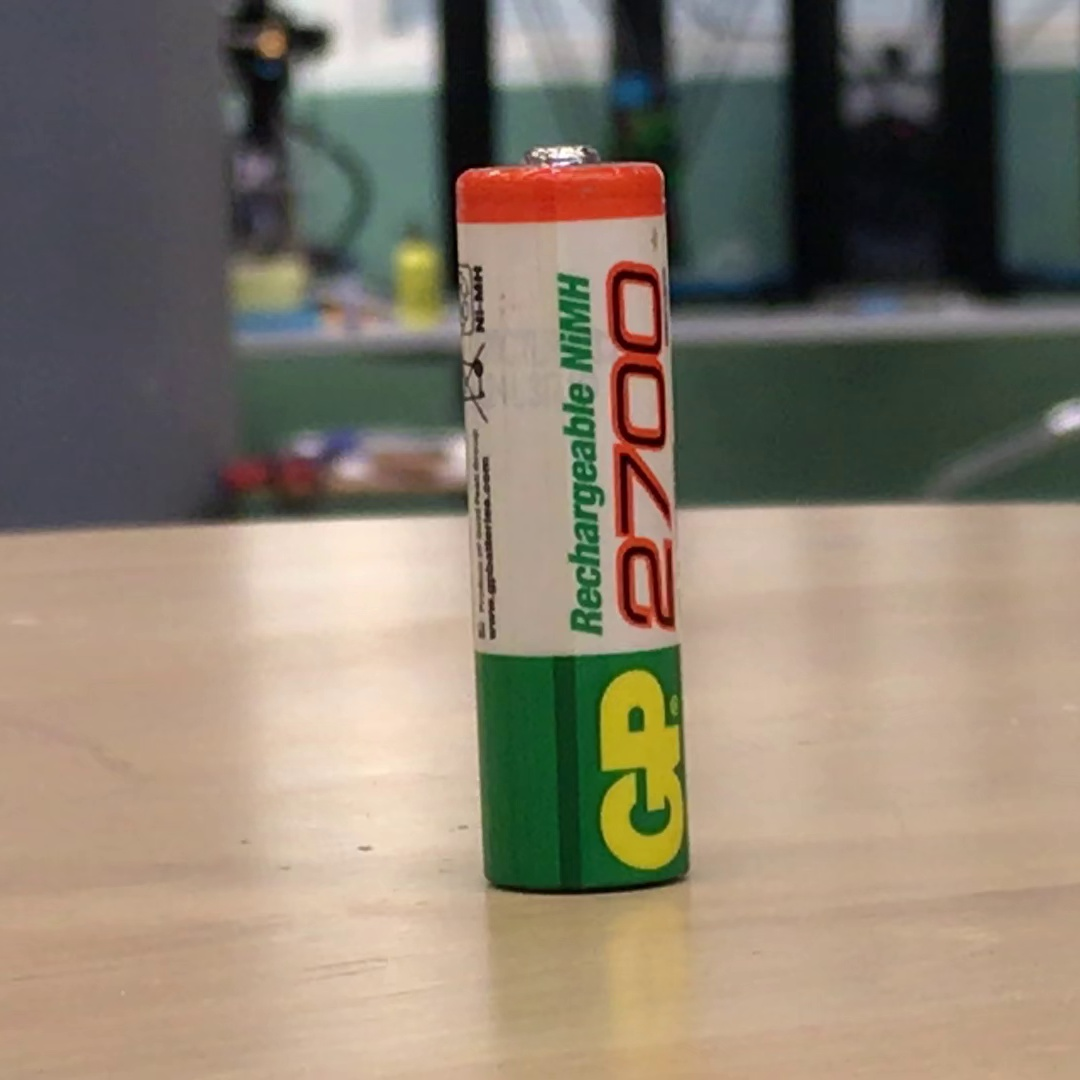keyword: (548, 264, 602, 382)
